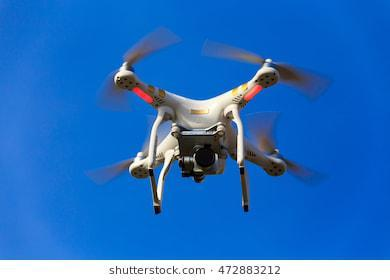drone: (0, 22, 390, 220)
